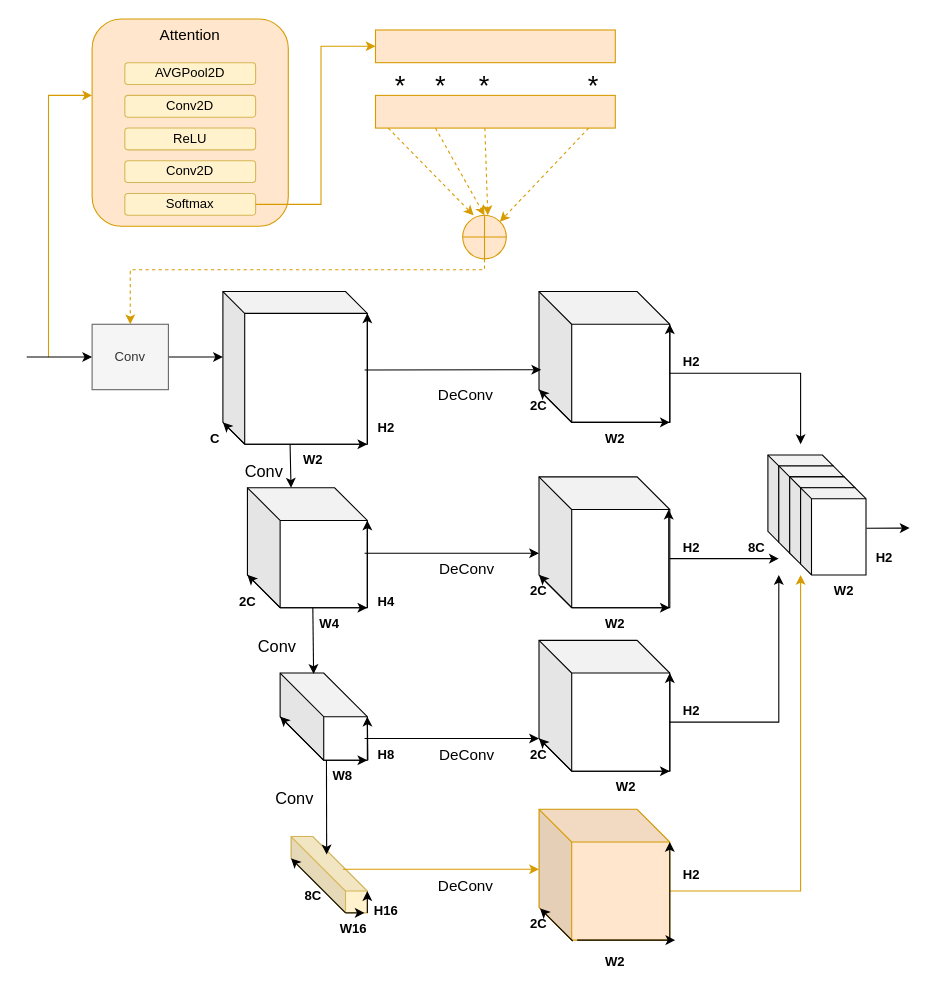
Some shapes in this 937 by 997 pixel diagram are drawn without their labels. Here are the shapes that lost their labels. From the top down, the box of each, then its label:
(374, 29, 615, 63): w 1 w 2 w 3 .... w n
(374, 94, 615, 128): Conv v1 Conv v2 Conv v3 ..... Conv vn
(279, 672, 367, 760): 4C
